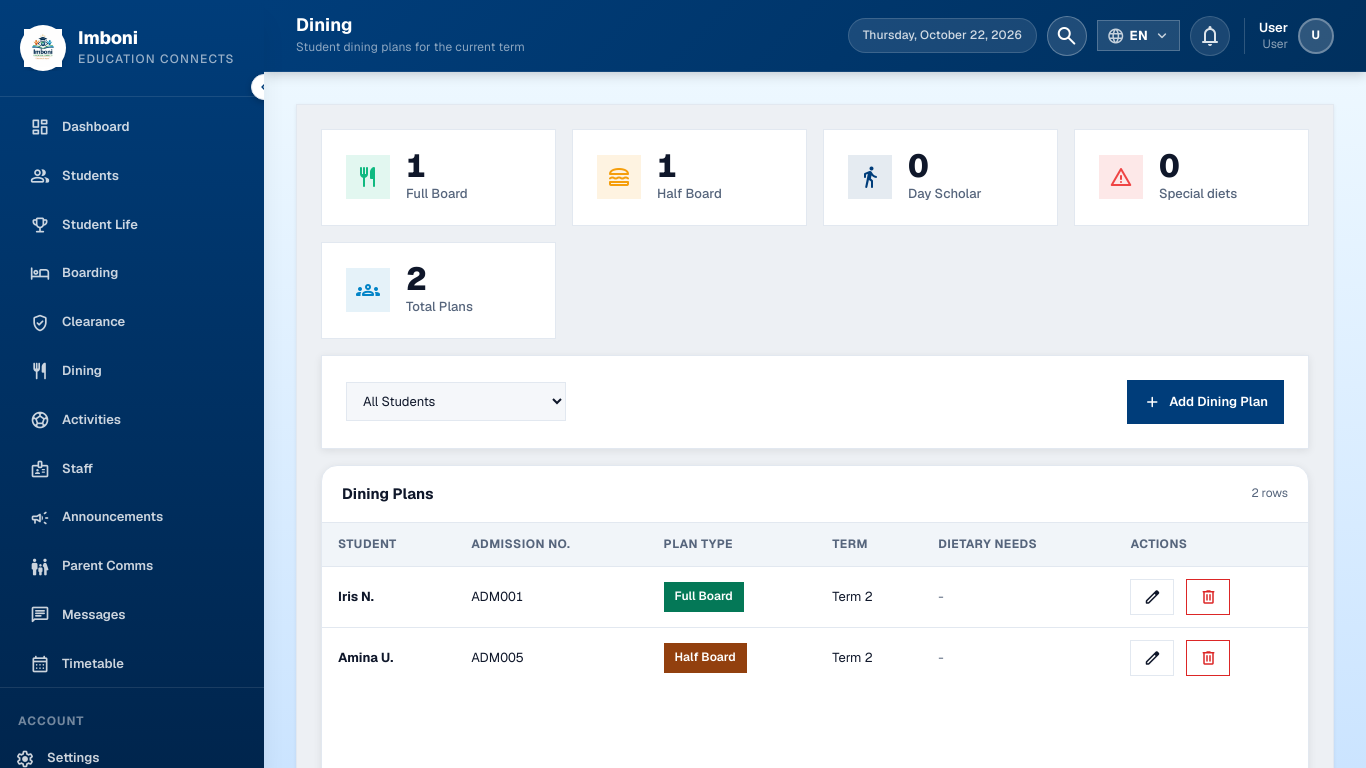
Test: DisDining › filters plans by plan type using the select
Expected: the text "Iris N." is shown, [338,588,374,605]
Expected: the text "Amina U." is shown, [338,649,393,666]
Select "Half Board" in the dropdown showing "All Students": x=456, y=402 [346,382,566,421]
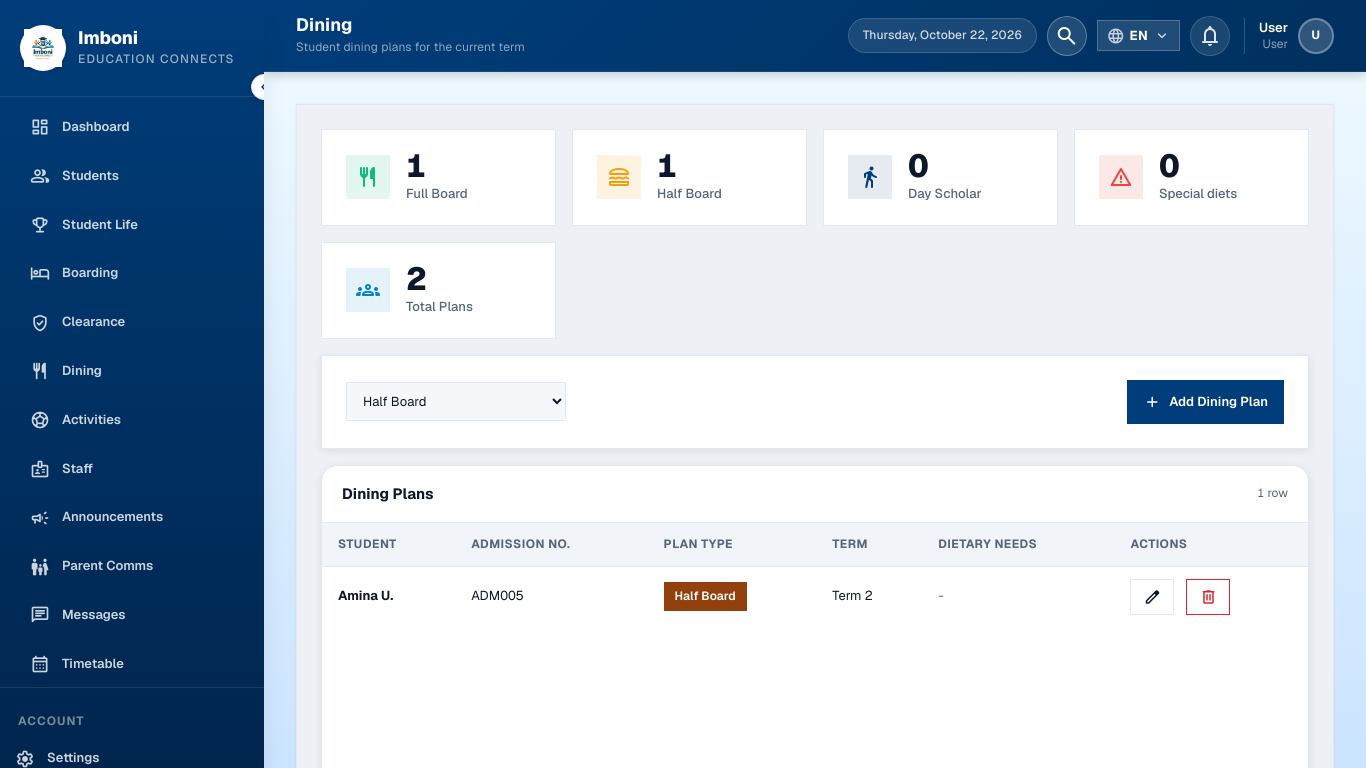
Expected: the text "Amina U." is shown, [338,587,393,604]
Result: the text "Iris N." is gone
